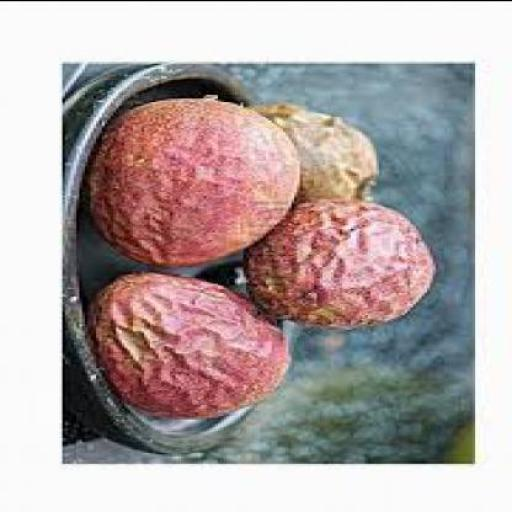biodegradable: (85, 98, 303, 268), (87, 274, 292, 418), (246, 198, 441, 330), (249, 102, 379, 204), (439, 425, 478, 465)
